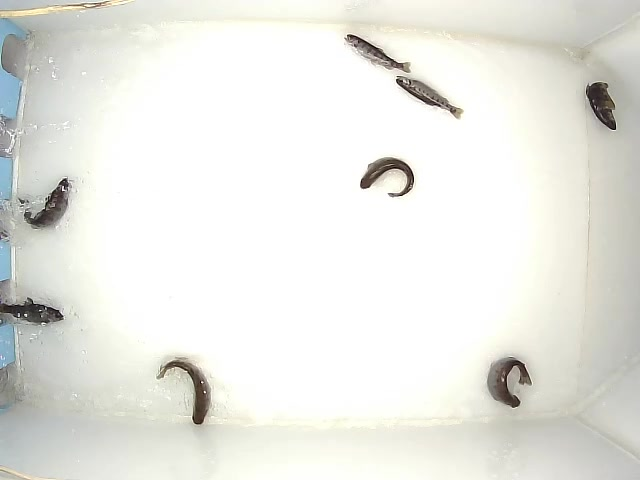fish: (156, 355, 212, 427), (395, 75, 465, 121), (15, 176, 72, 230), (343, 33, 413, 74), (486, 356, 533, 409), (359, 155, 415, 198), (1, 297, 66, 326), (585, 81, 618, 132)
